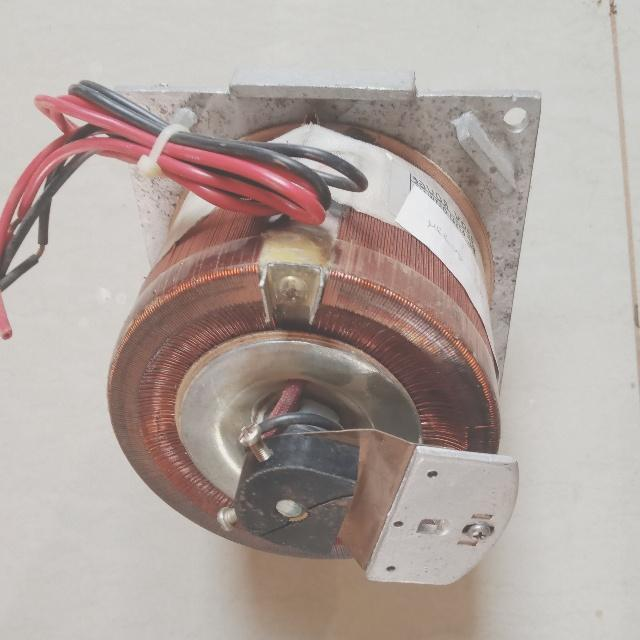AC Transformer: (96, 119, 544, 599)
